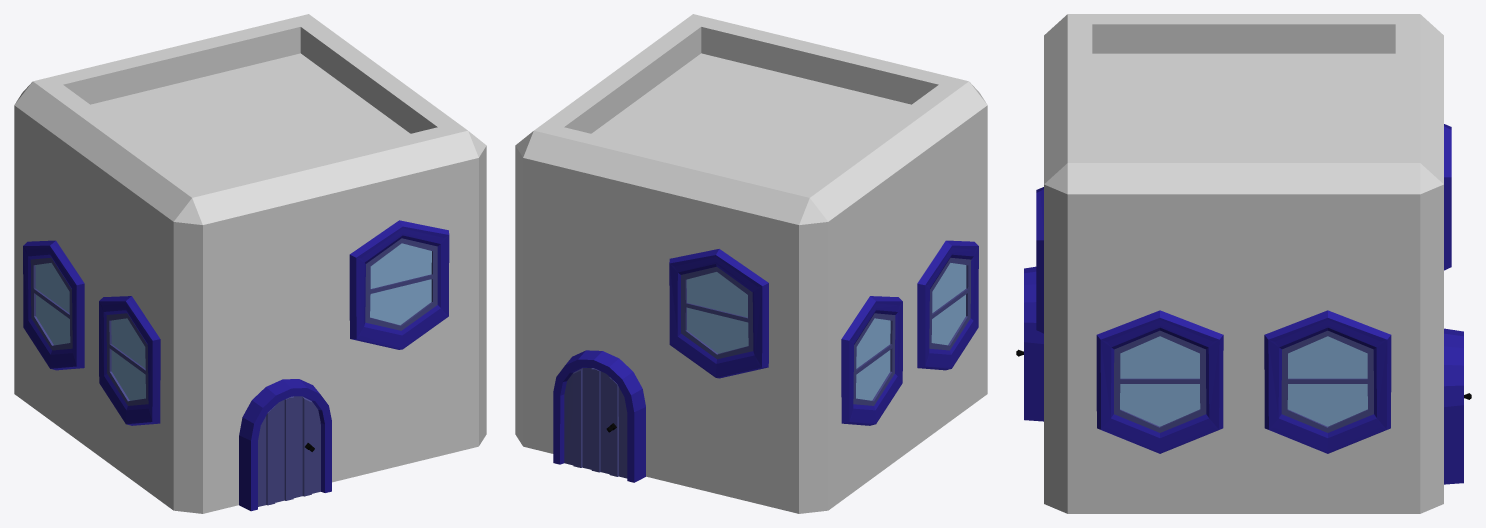
File: HouseSea.fbx
3 renders of one model, left to right at view 1: azimuth 30°, elevation 25°; view 2: azimuth 150°, elevation 25°; view 3: azimuth 270°, elevation 25°, orthographic. The views are drawn at different scales.
Visible parts, largest first — view 1: Cube.014; view 2: Cube.014; view 3: Cube.014.
Part boxes in pixels (<box>): Cube.014: <box>14,14,486,513</box>; Cube.014: <box>515,14,987,513</box>; Cube.014: <box>1016,14,1471,513</box>.
Bounding box in the file's own units: 342 × 309 × 374.
